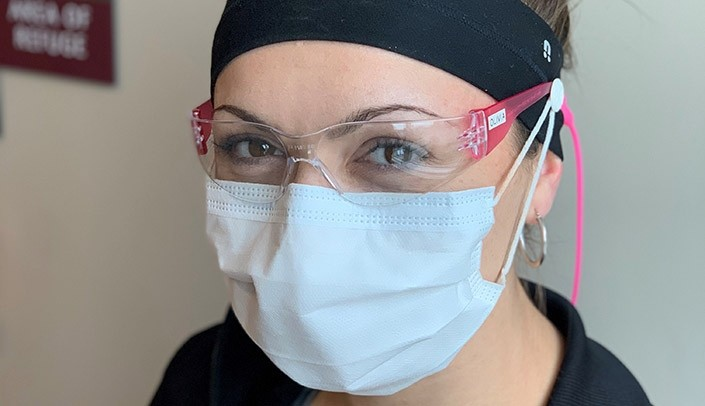Goggles: (188, 96, 505, 208)
with_mask: (204, 111, 505, 394)
